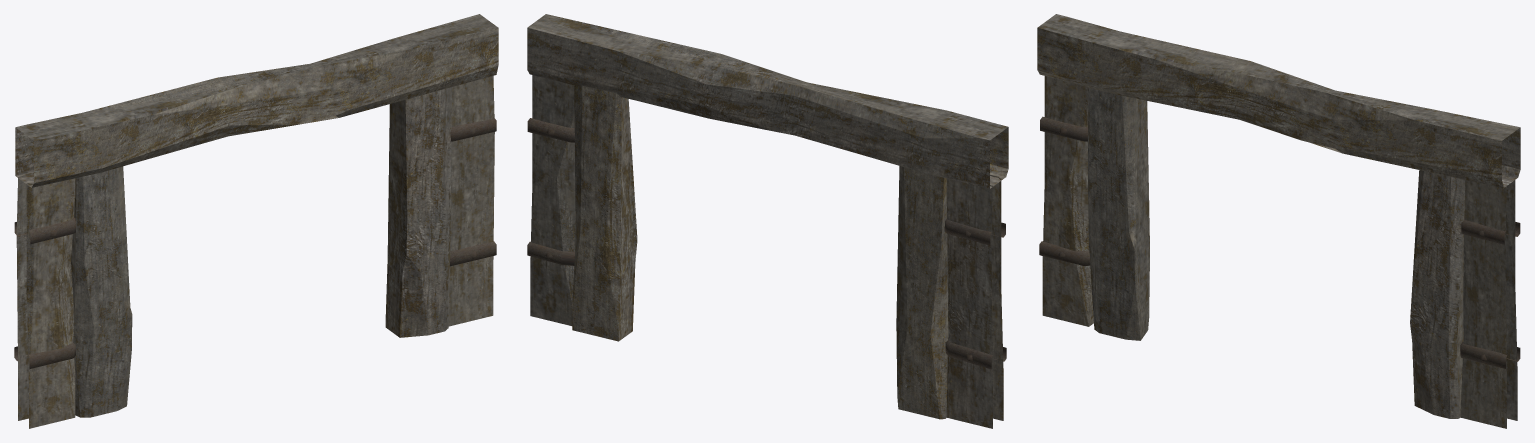
The model's file is gate_beam_supports.fbx.
3 views of the same model, side by side, from view 1: azimuth 30°, elevation 25°; view 2: azimuth 150°, elevation 25°; view 3: azimuth 330°, elevation 25° (orthographic).
Visible parts, largest first — view 1: gate_beam_supports; view 2: gate_beam_supports; view 3: gate_beam_supports.
Part boxes in pixels (left/top/right/bottom): gate_beam_supports: left=14, top=14, right=498, bottom=428; gate_beam_supports: left=527, top=14, right=1008, bottom=428; gate_beam_supports: left=1037, top=14, right=1520, bottom=428.
Size of the model in its own units: 201 by 122 by 16.4.
